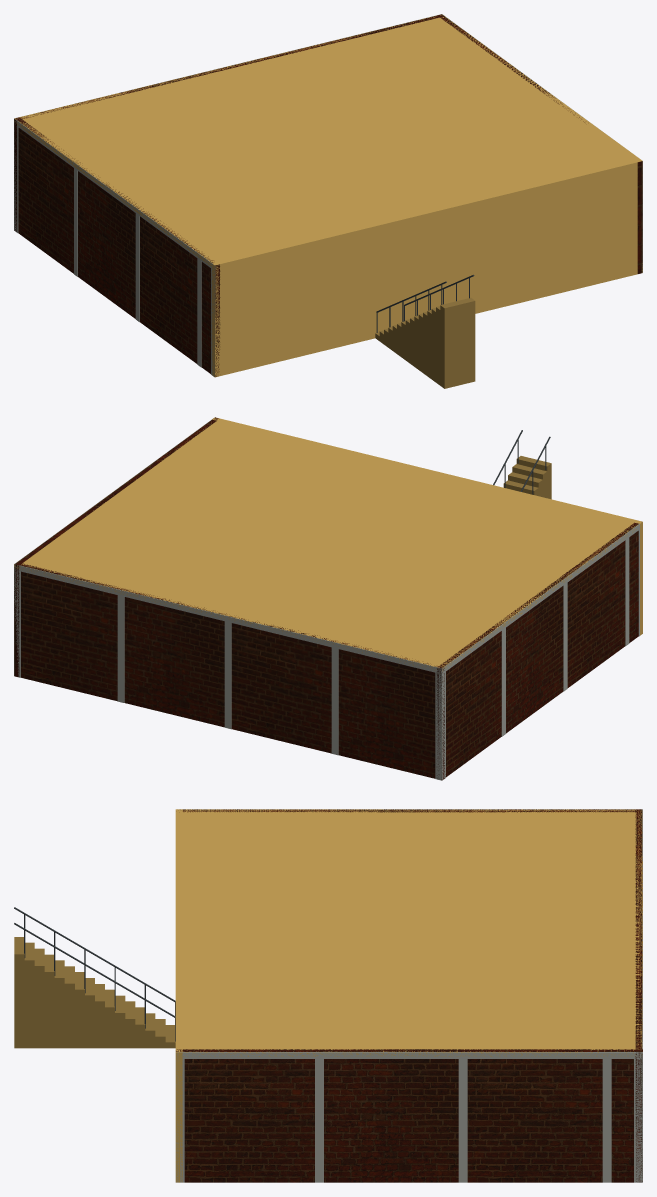
Rendered from building.glb.
3 renders of one model, top to bottom at view 1: azimuth 30°, elevation 25°; view 2: azimuth 150°, elevation 25°; view 3: azimuth 270°, elevation 25°, orthographic. The views are drawn at different scales.
Parts seen in each view (by area): view 1: roof/house:0/roof_slab#0001, house:0/edge0/z0/house:0/edge0/z0/wall_0_0, house:0/edge3/z0/house:0/edge3/z0/wall_0_0, house:0/edge0/z0/stair_00/exterior_stair_step#0016, house:0/edge2/z0/house:0/edge2/z0/wall_0_0, house:0/edge3/z0/house:0/edge3/z0/beam_0_0, house:0/edge1/z0/house:0/edge1/z0/wall_0_0, house:0/edge3/z0/house:0/edge3/z0/column_3_0, house:0/edge3/z0/house:0/edge3/z0/column_4_0; view 2: roof/house:0/roof_slab#0001, house:0/edge2/z0/house:0/edge2/z0/wall_0_0, house:0/edge3/z0/house:0/edge3/z0/wall_0_0, house:0/edge2/z0/house:0/edge2/z0/beam_0_0, house:0/edge0/z0/house:0/edge0/z0/wall_0_0, house:0/edge1/z0/house:0/edge1/z0/wall_0_0, house:0/edge3/z0/house:0/edge3/z0/beam_0_0, house:0/edge2/z0/house:0/edge2/z0/column_4_0, house:0/edge2/z0/house:0/edge2/z0/column_2_0, house:0/edge2/z0/house:0/edge2/z0/column_3_0, house:0/edge2/z0/house:0/edge2/z0/column_1_0, house:0/edge2/z0/house:0/edge2/z0/column_0_0 (+3 smaller); view 3: roof/house:0/roof_slab#0001, house:0/edge1/z0/house:0/edge1/z0/wall_0_0, house:0/edge1/z0/house:0/edge1/z0/beam_0_0, house:0/edge0/z0/house:0/edge0/z0/wall_0_0, house:0/edge2/z0/house:0/edge2/z0/wall_0_0, house:0/edge3/z0/house:0/edge3/z0/wall_0_0, house:0/edge1/z0/house:0/edge1/z0/column_3_0, house:0/edge1/z0/house:0/edge1/z0/column_4_0, house:0/edge0/z0/stair_00/exterior_stair_step#0016, house:0/edge0/z0/stair_00/exterior_stair_step#0015, house:0/edge1/z0/house:0/edge1/z0/column_2_0, house:0/edge1/z0/house:0/edge1/z0/column_1_0 (+10 smaller).
Part boxes in pixels (x1,y1,x2,y2): roof/house:0/roof_slab#0001: (14, 15, 642, 268); house:0/edge0/z0/house:0/edge0/z0/wall_0_0: (211, 161, 642, 376); house:0/edge3/z0/house:0/edge3/z0/wall_0_0: (15, 117, 220, 377); house:0/edge0/z0/stair_00/exterior_stair_step#0016: (440, 297, 475, 388); house:0/edge2/z0/house:0/edge2/z0/wall_0_0: (14, 15, 444, 231); house:0/edge3/z0/house:0/edge3/z0/beam_0_0: (14, 118, 215, 270); house:0/edge1/z0/house:0/edge1/z0/wall_0_0: (437, 14, 642, 273); house:0/edge3/z0/house:0/edge3/z0/column_3_0: (135, 213, 139, 322); house:0/edge3/z0/house:0/edge3/z0/column_4_0: (197, 258, 201, 367); roof/house:0/roof_slab#0001: (14, 419, 638, 671); house:0/edge2/z0/house:0/edge2/z0/wall_0_0: (16, 563, 445, 780); house:0/edge3/z0/house:0/edge3/z0/wall_0_0: (436, 522, 638, 779); house:0/edge2/z0/house:0/edge2/z0/beam_0_0: (14, 564, 442, 673); house:0/edge0/z0/house:0/edge0/z0/wall_0_0: (212, 417, 642, 635); house:0/edge1/z0/house:0/edge1/z0/wall_0_0: (14, 417, 218, 677); house:0/edge3/z0/house:0/edge3/z0/beam_0_0: (441, 524, 639, 673); house:0/edge2/z0/house:0/edge2/z0/column_4_0: (331, 647, 338, 755); house:0/edge2/z0/house:0/edge2/z0/column_2_0: (117, 595, 124, 702); house:0/edge2/z0/house:0/edge2/z0/column_3_0: (224, 621, 231, 729); house:0/edge2/z0/house:0/edge2/z0/column_1_0: (435, 672, 442, 780); house:0/edge2/z0/house:0/edge2/z0/column_0_0: (14, 570, 20, 677); roof/house:0/roof_slab#0001: (175, 809, 642, 1056); house:0/edge1/z0/house:0/edge1/z0/wall_0_0: (176, 1049, 642, 1182); house:0/edge1/z0/house:0/edge1/z0/beam_0_0: (177, 1052, 642, 1058); house:0/edge0/z0/house:0/edge0/z0/wall_0_0: (175, 809, 182, 1182); house:0/edge2/z0/house:0/edge2/z0/wall_0_0: (635, 809, 642, 1182); house:0/edge3/z0/house:0/edge3/z0/wall_0_0: (180, 809, 635, 812); house:0/edge1/z0/house:0/edge1/z0/column_3_0: (458, 1059, 467, 1182); house:0/edge1/z0/house:0/edge1/z0/column_4_0: (602, 1059, 611, 1182); house:0/edge0/z0/stair_00/exterior_stair_step#0016: (14, 937, 24, 1048); house:0/edge0/z0/stair_00/exterior_stair_step#0015: (24, 942, 34, 1048); house:0/edge1/z0/house:0/edge1/z0/column_2_0: (315, 1059, 323, 1182); house:0/edge1/z0/house:0/edge1/z0/column_1_0: (634, 1059, 642, 1182).
Size of the model in its own units: 16 by 4 by 17.49.
Materials: 5 (1 with a texture image).
